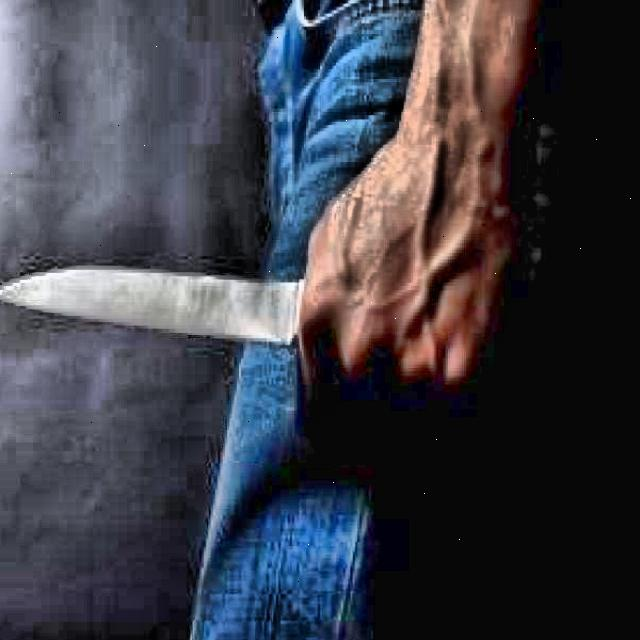knife: (0, 266, 556, 387)
